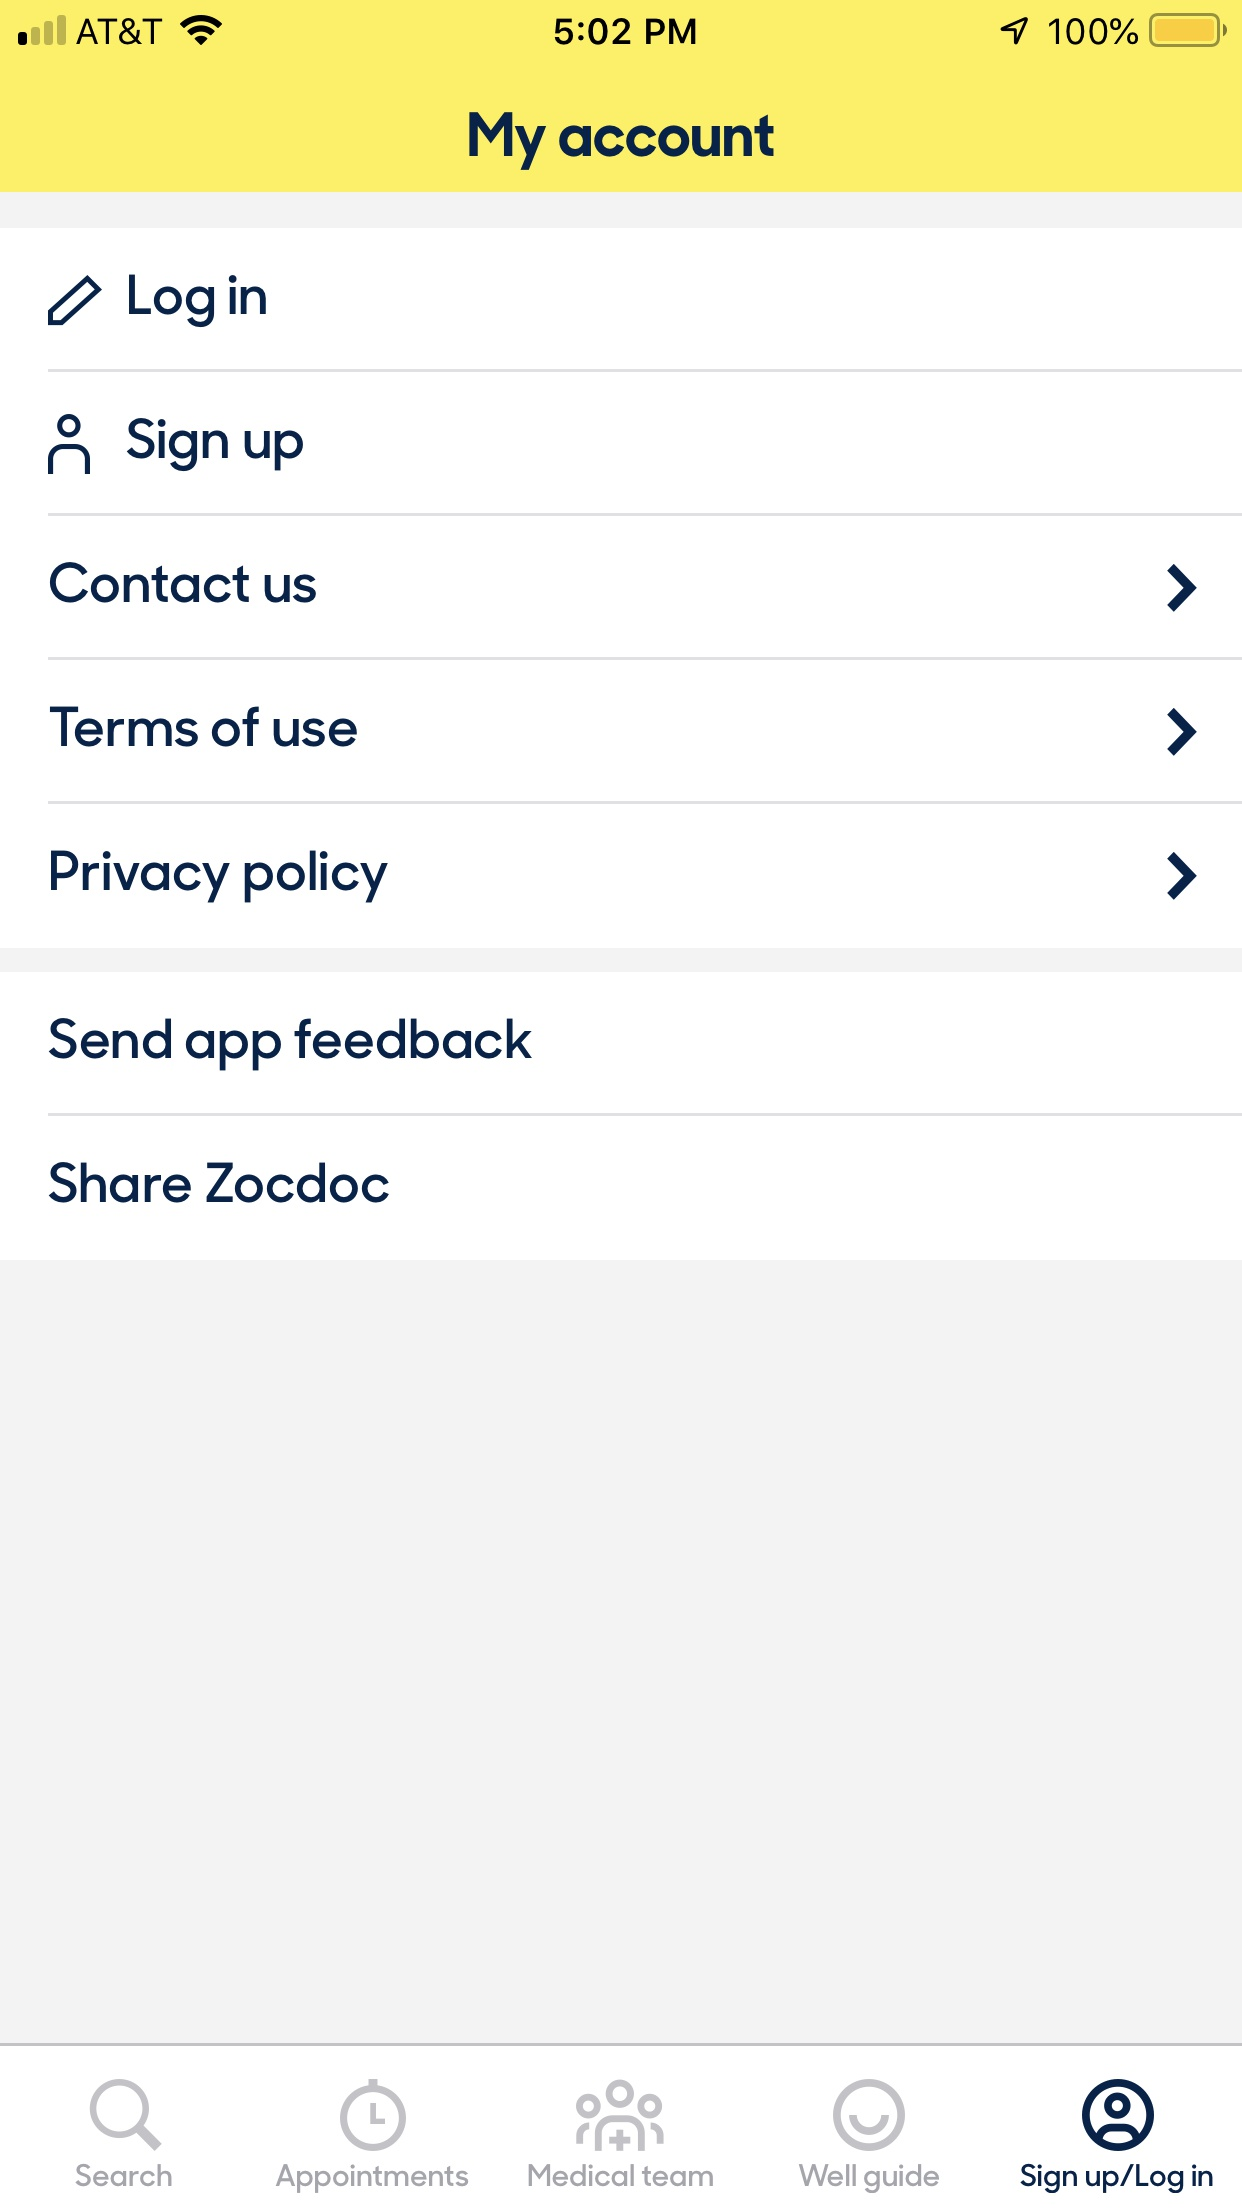Icon: (575, 2079, 666, 2152), (1081, 2078, 1156, 2152), (89, 2078, 162, 2152), (340, 2078, 408, 2152), (49, 274, 105, 328), (49, 414, 93, 476), (1166, 851, 1198, 901), (1166, 707, 1198, 757), (1168, 563, 1198, 613)
Image: (833, 2078, 905, 2152)
Text: (49, 1018, 534, 1072), (52, 849, 390, 904), (469, 112, 775, 171), (49, 1162, 391, 1204), (50, 707, 358, 749), (50, 561, 318, 604), (127, 419, 305, 473), (129, 274, 268, 329), (274, 2163, 470, 2194), (1021, 2163, 1215, 2194), (798, 2163, 940, 2194), (528, 2163, 714, 2187), (76, 2163, 174, 2188)
UpperTaskBar: (2, 2, 1242, 49)
